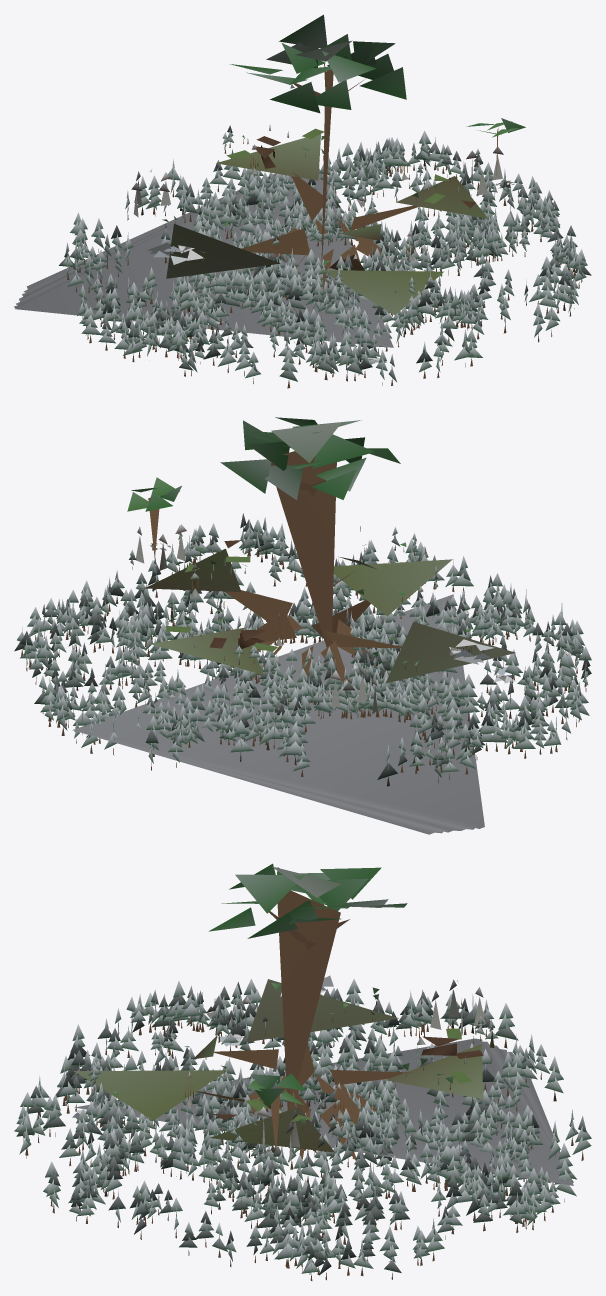
3 views of the same model, one above another, from view 1: azimuth 30°, elevation 25°; view 2: azimuth 150°, elevation 25°; view 3: azimuth 270°, elevation 25° (orthographic). The views are drawn at different scales.
Visible parts, largest first — view 1: BASE, VILLE_3; view 2: BASE, VILLE_3; view 3: BASE, VILLE_3.
Part boxes in pixels (left/top/right/bottom): BASE: left=14, top=14, right=591, bottom=388; VILLE_3: left=226, top=125, right=478, bottom=208; BASE: left=14, top=417, right=591, bottom=834; VILLE_3: left=166, top=536, right=282, bottom=651; BASE: left=14, top=863, right=591, bottom=1280; VILLE_3: left=213, top=1010, right=492, bottom=1123.
Bounding box in the file's own units: 64.41 × 33.2 × 58.62.
